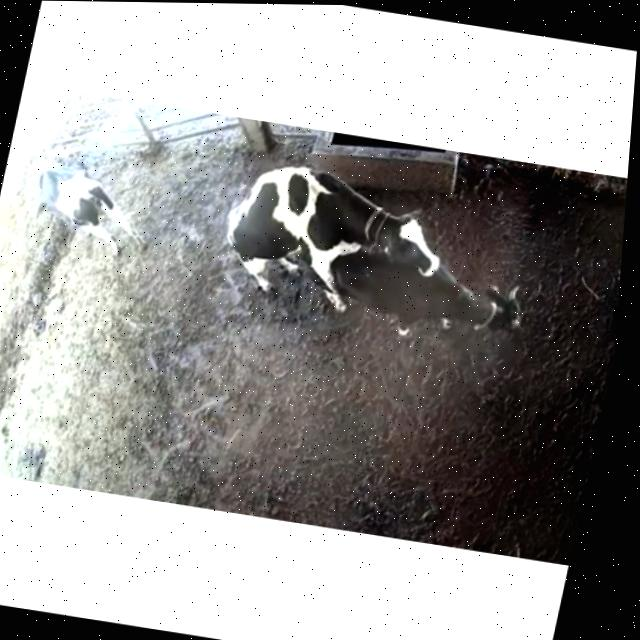ride: (202, 147, 472, 343)
